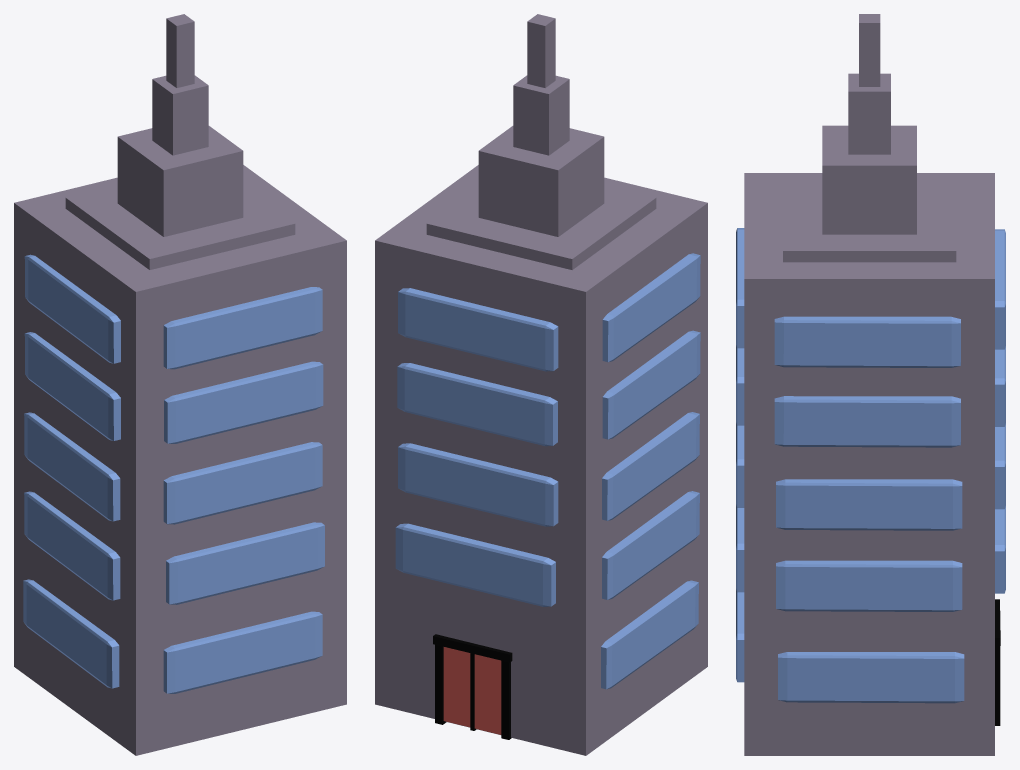
File: building2.fbx
The picture shows the model from 3 angles, left to right: view 1: azimuth 30°, elevation 25°; view 2: azimuth 150°, elevation 25°; view 3: azimuth 270°, elevation 25°; orthographic projection. The views are drawn at different scales.
Parts seen in each view (by area): view 1: Cube.084, Cube.009, Cube.003, Cube.004, Cube.011, Cube.010, Cube.018, Cube.020, Cube.019, Cube.016, Cube.017; view 2: Cube.084, Cube.002, Cube.007, Cube.008, Cube.006, Cube.017, Cube.016, Cube.019, Cube.020, Cube.018, Cube.088, Cube.087 (+2 smaller); view 3: Cube.084, Cube.005, Cube.014, Cube.013, Cube.012, Cube.015, Cube.002, Cube.003, Cube.008, Cube.007, Cube.006, Cube.011 (+4 smaller).
Part boxes in pixels (left/top/right/bottom): Cube.084: left=14, top=14, right=346, bottom=755; Cube.009: left=163, top=442, right=322, bottom=524; Cube.003: left=163, top=287, right=322, bottom=369; Cube.004: left=164, top=361, right=323, bottom=443; Cube.011: left=163, top=611, right=322, bottom=693; Cube.010: left=166, top=522, right=324, bottom=604; Cube.018: left=24, top=412, right=120, bottom=521; Cube.020: left=23, top=579, right=119, bottom=688; Cube.019: left=24, top=491, right=120, bottom=600; Cube.016: left=24, top=254, right=120, bottom=363; Cube.017: left=24, top=332, right=120, bottom=440; Cube.084: left=375, top=14, right=707, bottom=755; Cube.002: left=398, top=288, right=558, bottom=371; Cube.007: left=398, top=443, right=558, bottom=526; Cube.008: left=395, top=523, right=555, bottom=606; Cube.006: left=397, top=363, right=557, bottom=446; Cube.017: left=602, top=330, right=700, bottom=439; Cube.016: left=602, top=253, right=700, bottom=362; Cube.019: left=602, top=491, right=699, bottom=599; Cube.020: left=601, top=580, right=698, bottom=689; Cube.018: left=602, top=412, right=699, bottom=520; Cube.088: left=443, top=647, right=501, bottom=734; Cube.087: left=433, top=634, right=512, bottom=662; Cube.084: left=744, top=14, right=994, bottom=755; Cube.005: left=774, top=316, right=960, bottom=367; Cube.014: left=776, top=560, right=962, bottom=611; Cube.013: left=776, top=479, right=962, bottom=530; Cube.012: left=774, top=396, right=960, bottom=447; Cube.015: left=778, top=652, right=964, bottom=703; Cube.002: left=995, top=229, right=1005, bottom=349; Cube.003: left=736, top=228, right=744, bottom=348; Cube.008: left=995, top=506, right=1005, bottom=593; Cube.007: left=995, top=423, right=1005, bottom=509; Cube.006: left=995, top=346, right=1005, bottom=426; Cube.011: left=736, top=589, right=744, bottom=682.
Size of the model in its own units: 488 by 1357 by 484.
